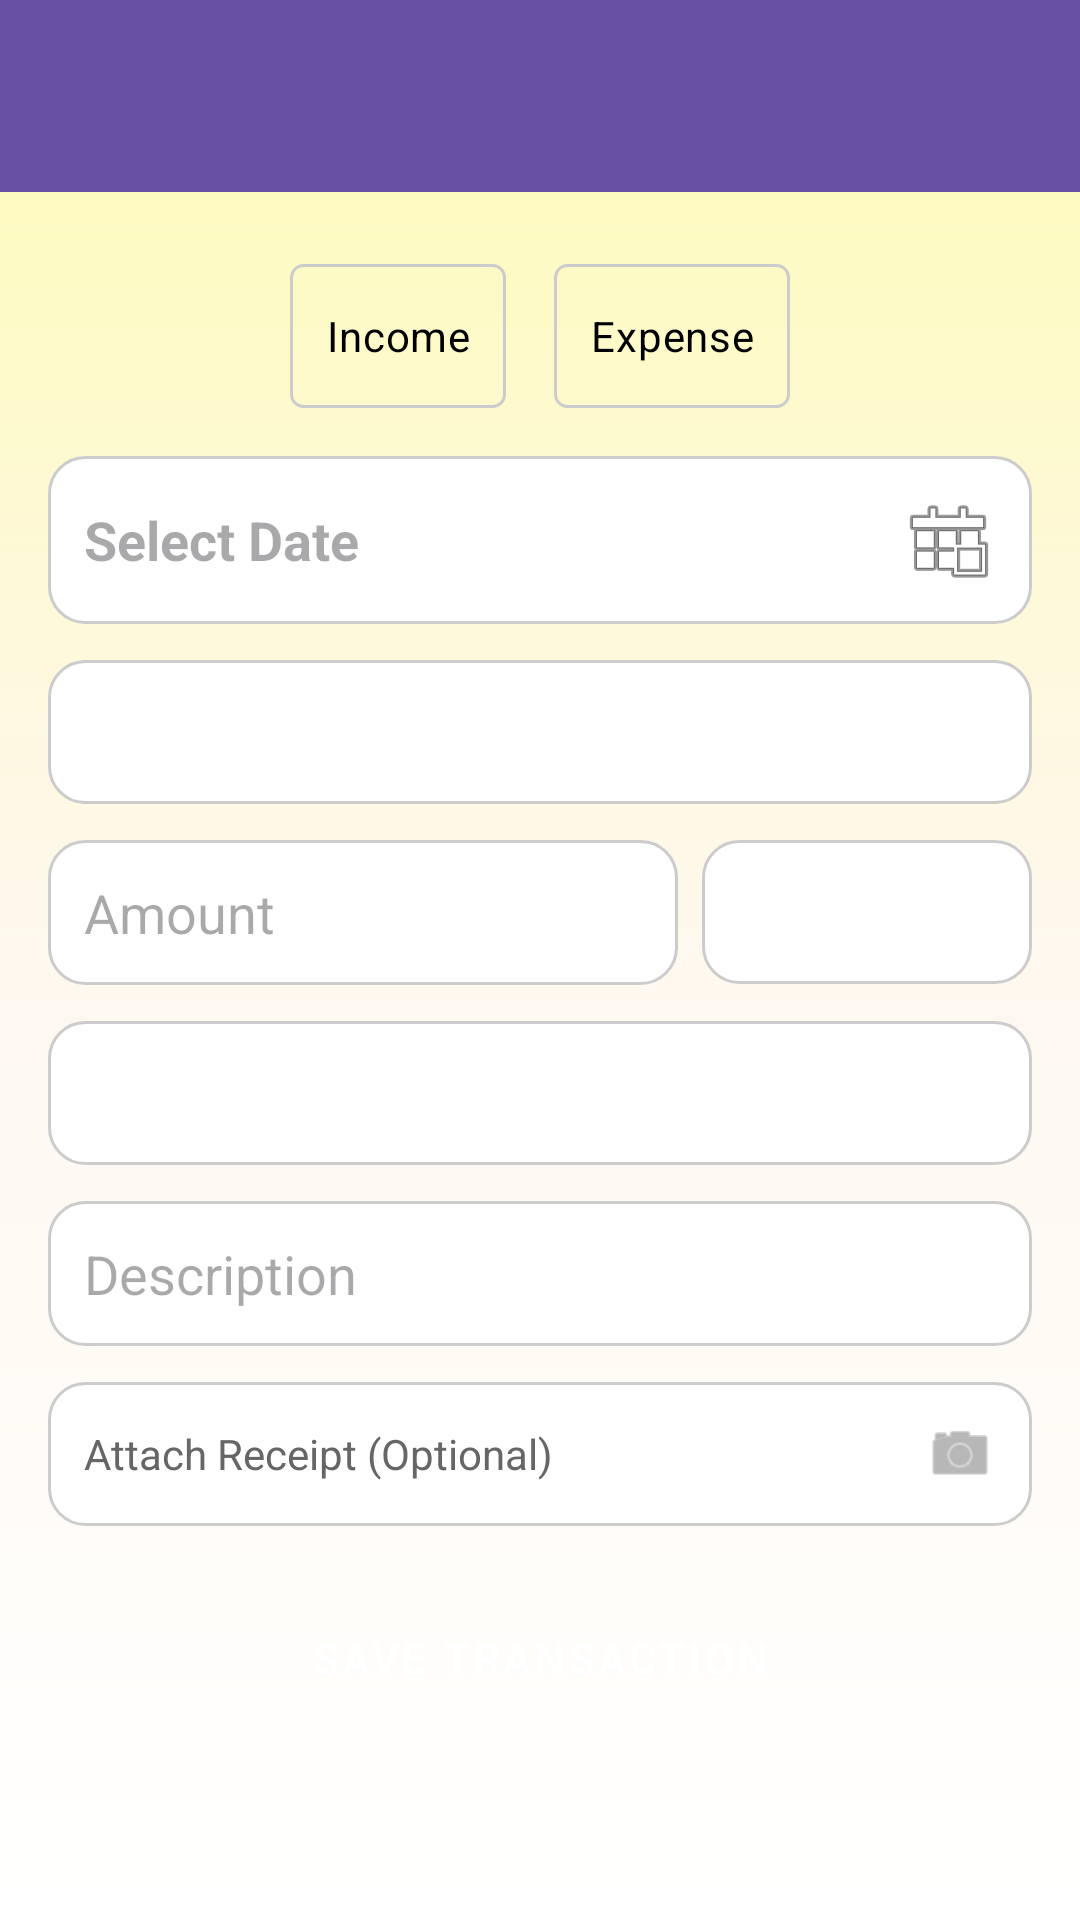

Named icons in this screenshot (1080 x 1920) and their centers, (x=x, y=y):
camera: (x=960, y=1453)
